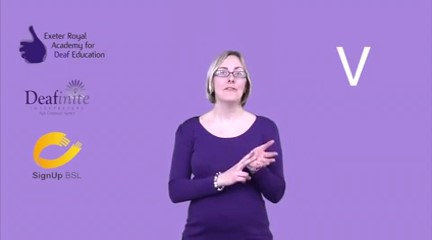V: (207, 136, 284, 197)
